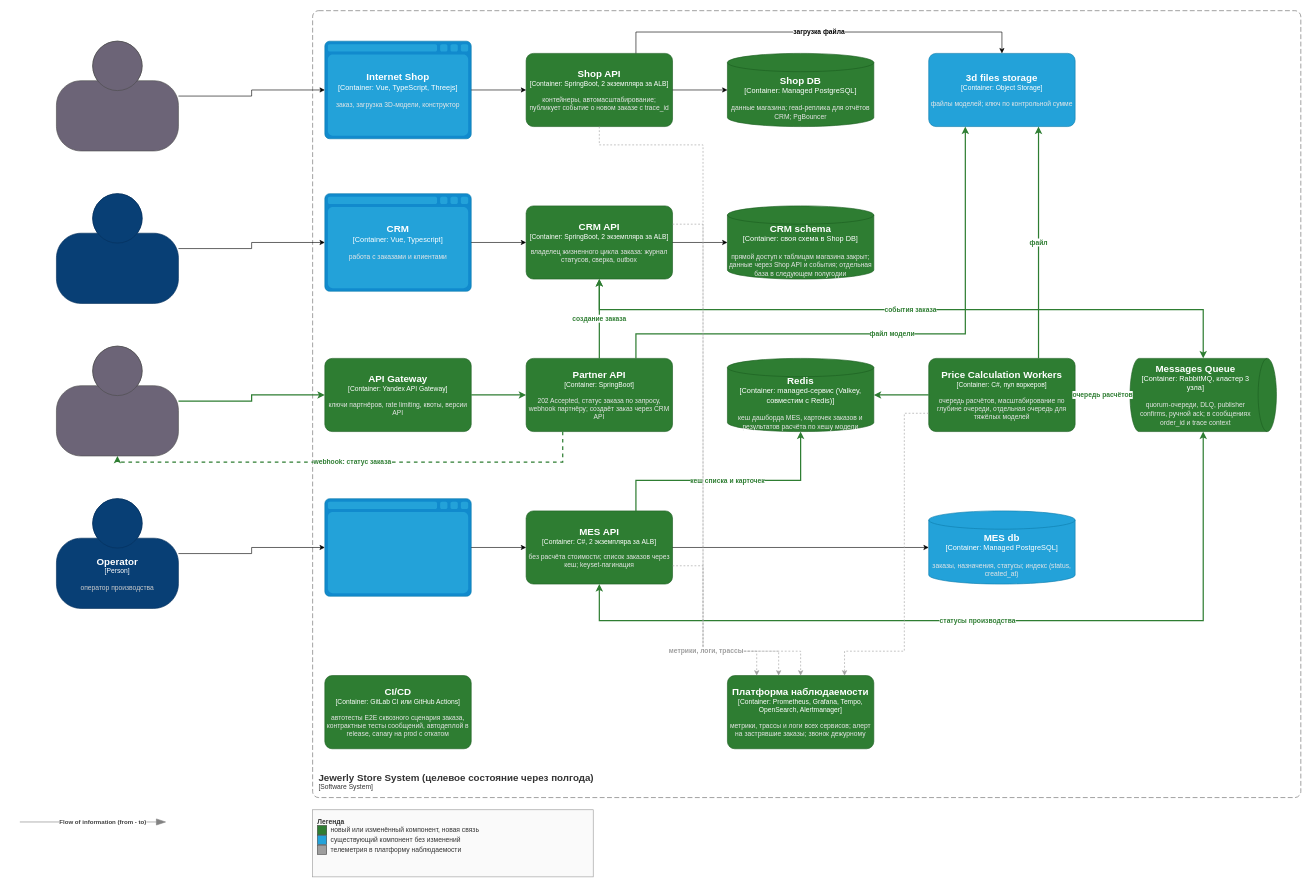
Some shapes in this 1312 by 888 pixel diagram are drawn without their labels. Here are the shapes that lost their labels. From the top down, the centre of each, then its label:
At point 117,96: "Customer [Person] покупатель онлайн-магазина".
At point 117,248: "Seller [Person] продавец, работает в CRM".
At point 117,401: "API user [Person] партнёр, интеграция по API".
At point 397,547: "MES [Container: React, typescript] дашборд операторов, статусы производства".
